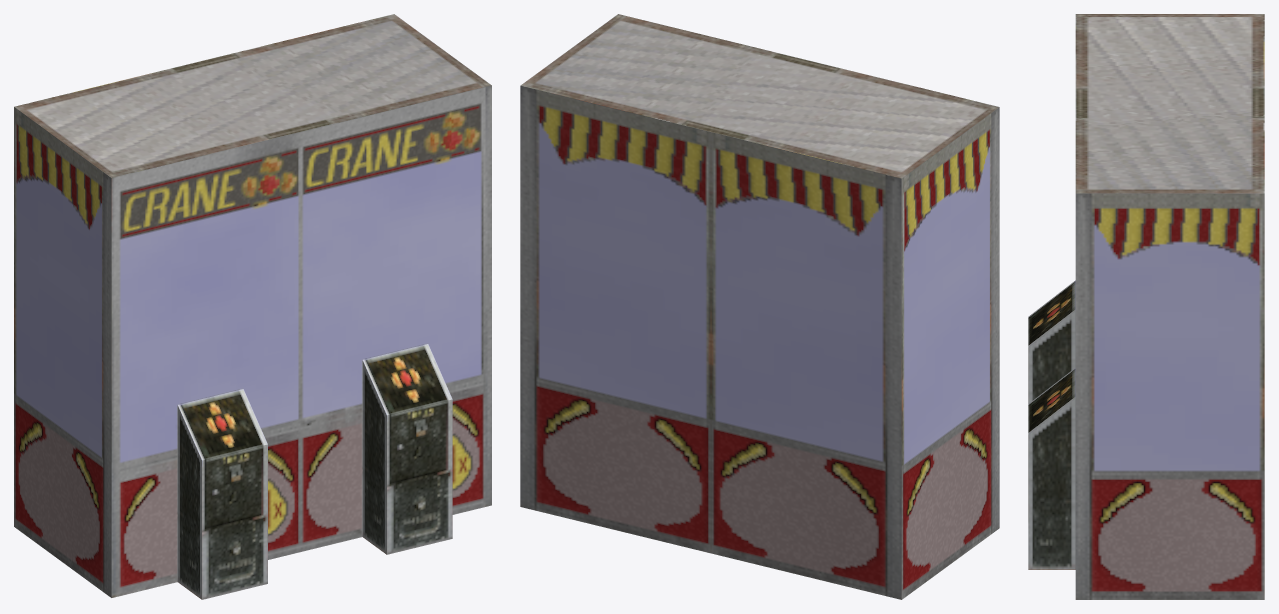
File: CraneGame01.obj
The picture shows the model from 3 angles, left to right: view 1: azimuth 30°, elevation 25°; view 2: azimuth 150°, elevation 25°; view 3: azimuth 270°, elevation 25°; orthographic projection. The views are drawn at different scales.
Visible parts, largest first — view 1: CraneGame01.Glas, CraneGame01; view 2: CraneGame01.Glas, CraneGame01; view 3: CraneGame01.Glas, CraneGame01.
Part boxes in pixels (x1,y1,x2,y2): CraneGame01.Glas: [14, 85, 491, 597]; CraneGame01: [14, 14, 491, 599]; CraneGame01.Glas: [520, 85, 999, 599]; CraneGame01: [521, 14, 998, 178]; CraneGame01.Glas: [1075, 193, 1264, 599]; CraneGame01: [1028, 14, 1264, 569].
Bounding box in the file's own units: 2.7 × 2.85 × 1.5.
